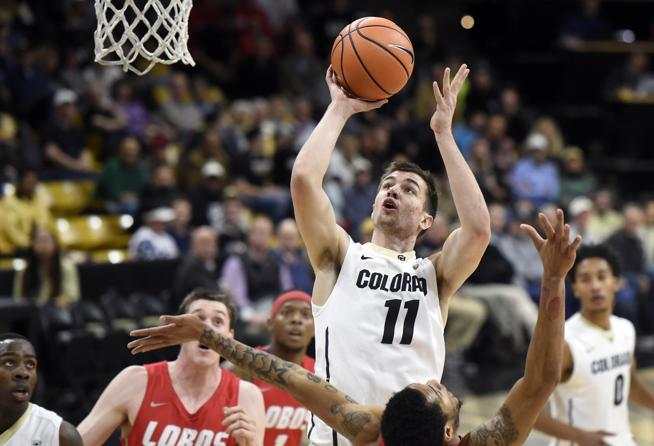shoot: (277, 1, 499, 415)
